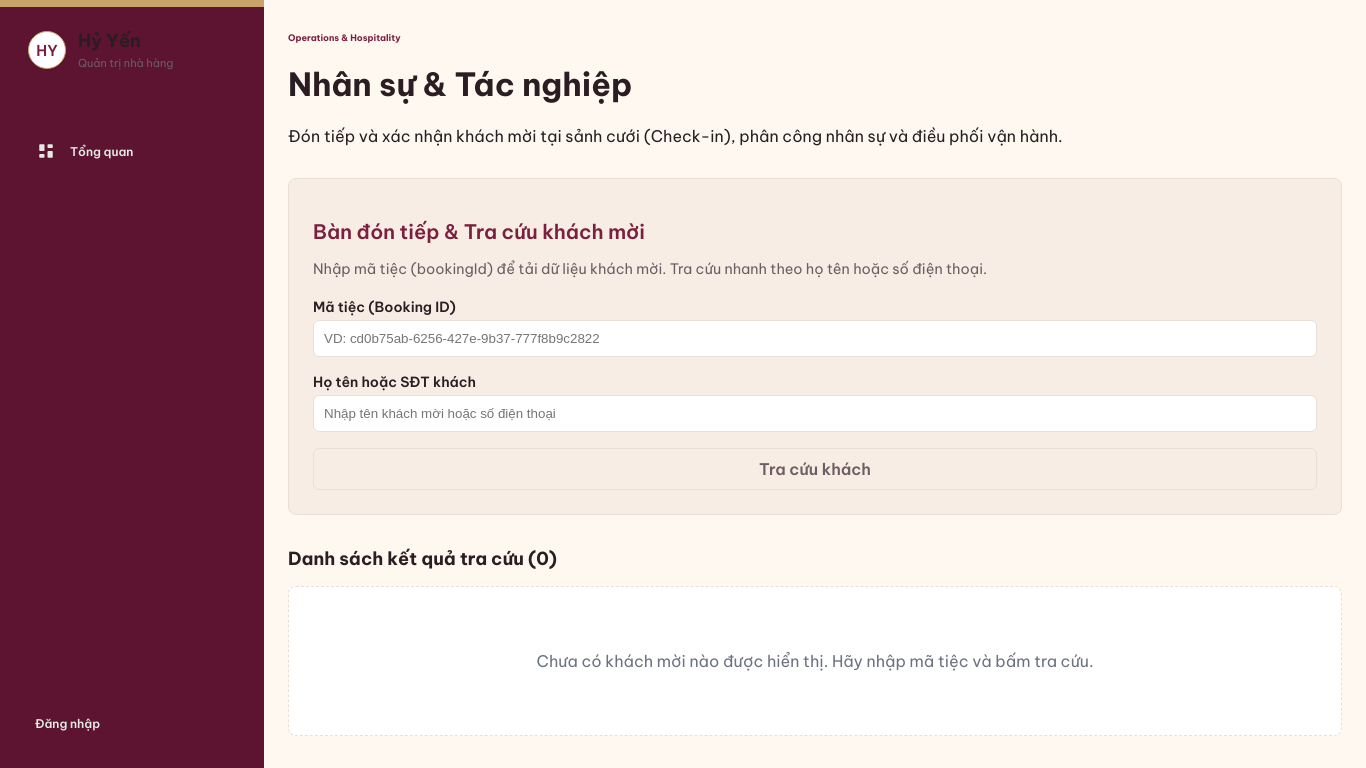
StaffOperationsPage (M6, S1, S2) › renders check-in desk and allows searching guests
The width and height of the screenshot is (1366, 768).
Expected: the heading "Nhân sự & Tác nghiệp" is shown, [288,64,632,104]
Type "booking-test-123" into the field labelled "Mã tiệc (Booking ID)". click: (815, 339)
box: [313,320,1317,358]
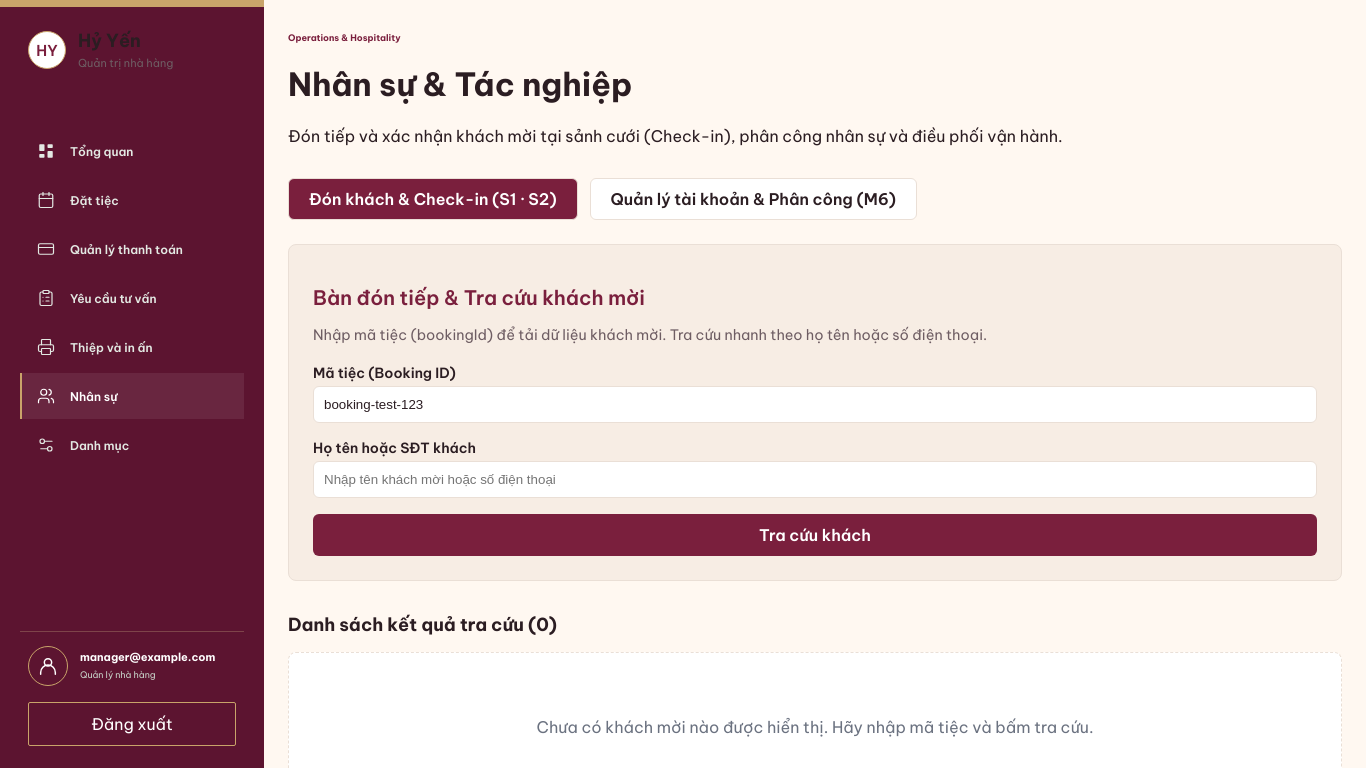
Click the button "Tra cứu khách". click: (815, 536)
box: [313,514,1317,556]
(page scrolled)
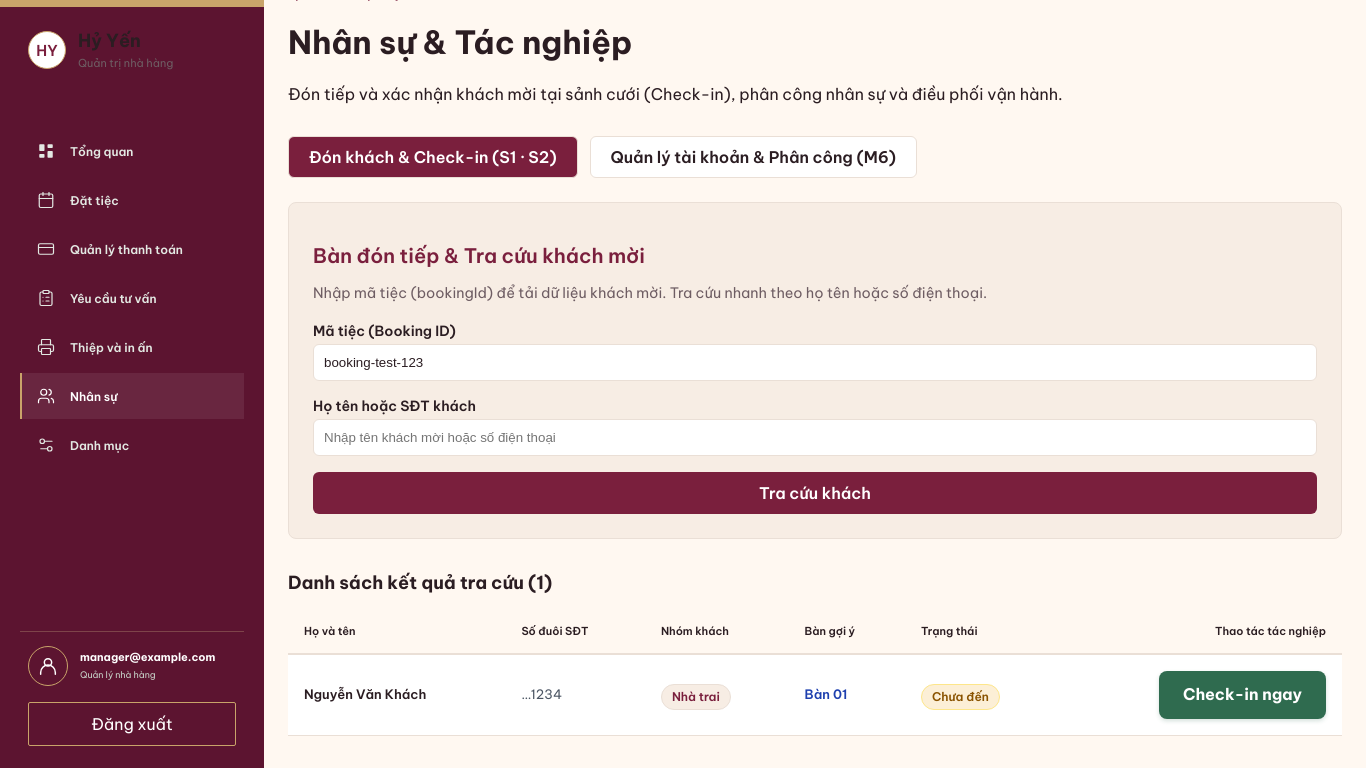
Now the text "Nguyễn Văn Khách" is shown, box [288,654,505,735]
Now the text "…1234" is shown, box [505,654,645,735]
Now the text "Bàn 01" is shown, box [789,654,905,735]
